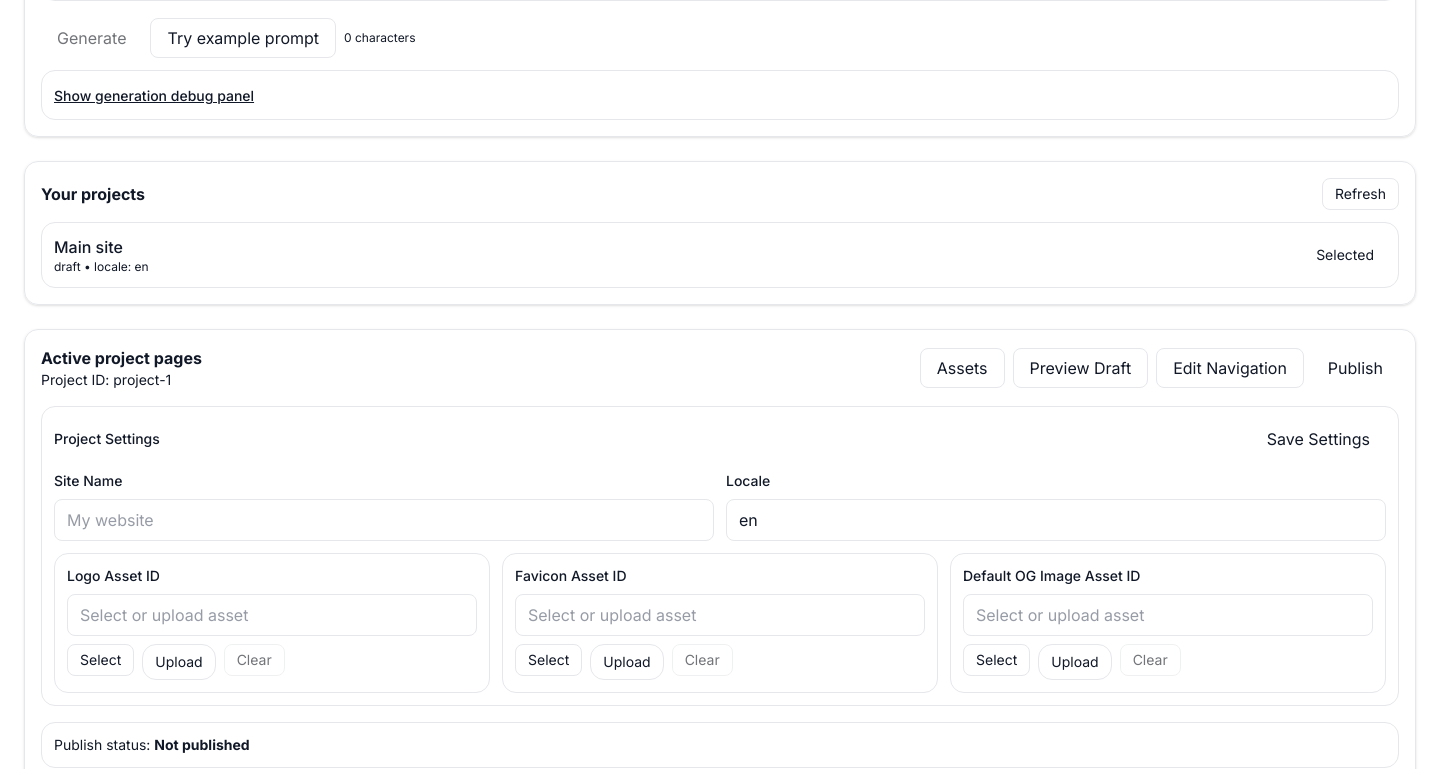
Test: ProjectsApiScreen toasts › disables publish button while publishing is in progress
(page scrolled)
Click the button "Publish" at [1355, 368], box left=1312, top=348, right=1399, bottom=388
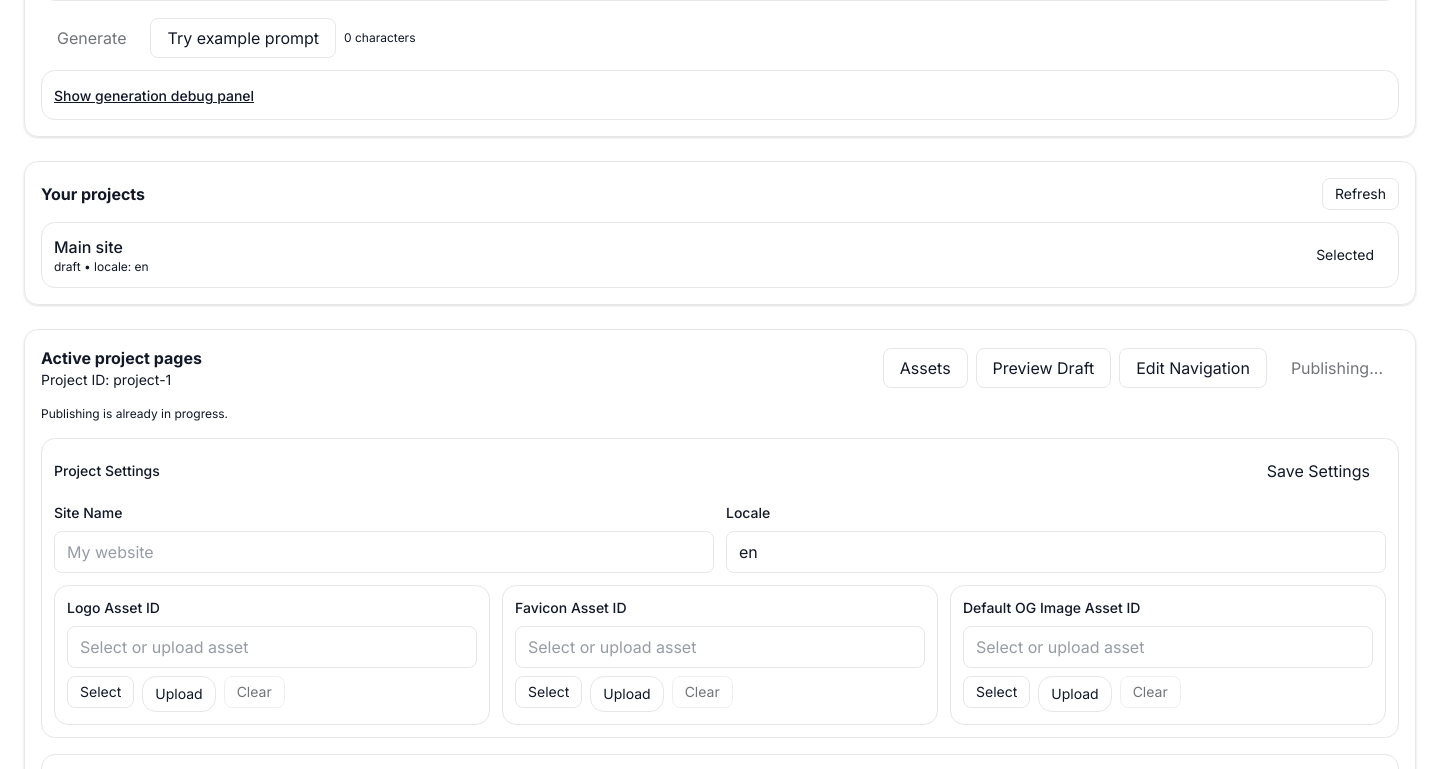
Expected: the button "Publishing..." is disabled, left=1275, top=348, right=1399, bottom=388
